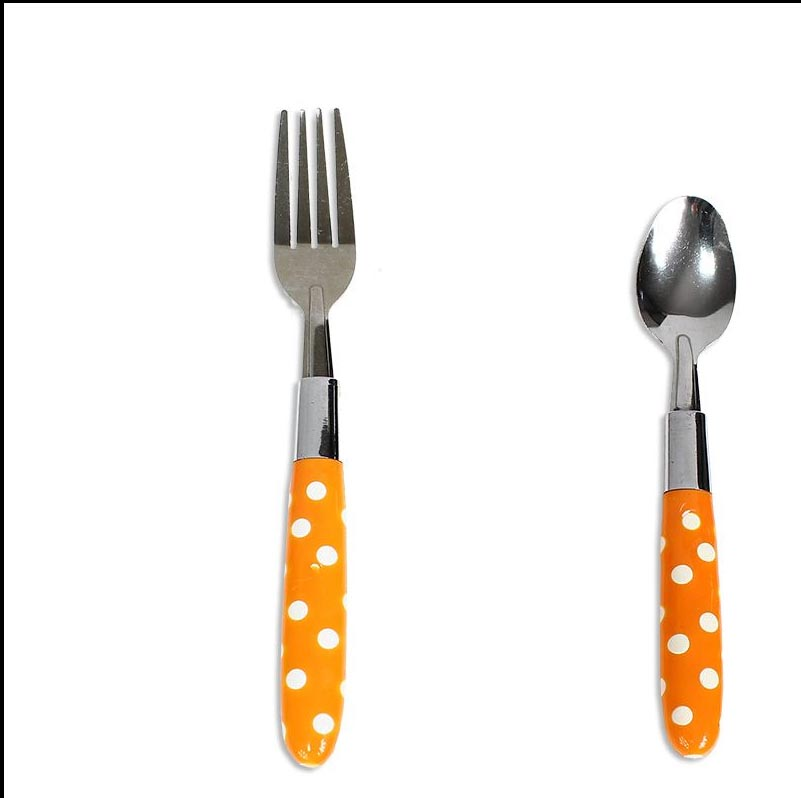Lyzka: (628, 194, 742, 369)
Widelec: (264, 99, 363, 319)
